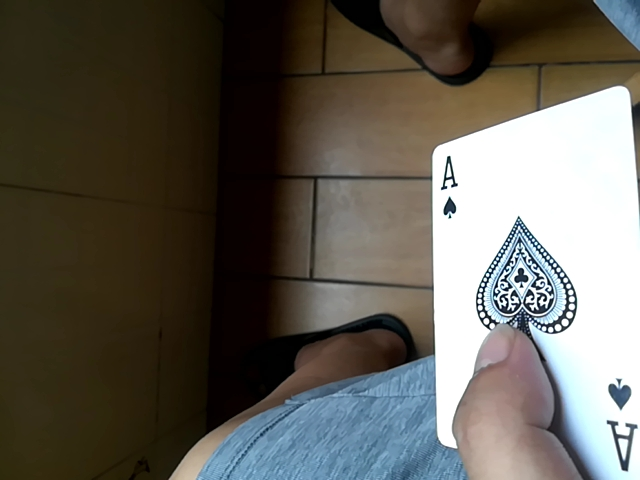ht a: (425, 81, 638, 471)
